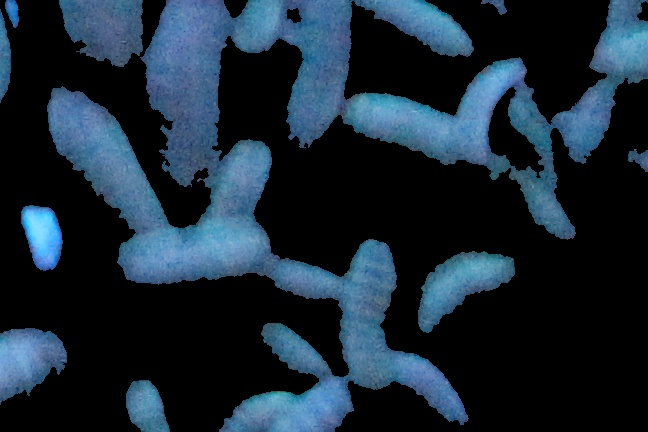larvae: (28, 69, 148, 232), (92, 208, 278, 304), (149, 1, 230, 200), (274, 1, 359, 162), (18, 1, 152, 98), (335, 82, 469, 171), (335, 230, 402, 404), (405, 252, 526, 347), (451, 46, 528, 171), (392, 343, 486, 428), (341, 1, 527, 37), (243, 316, 331, 384), (274, 379, 369, 432), (201, 380, 291, 432)
